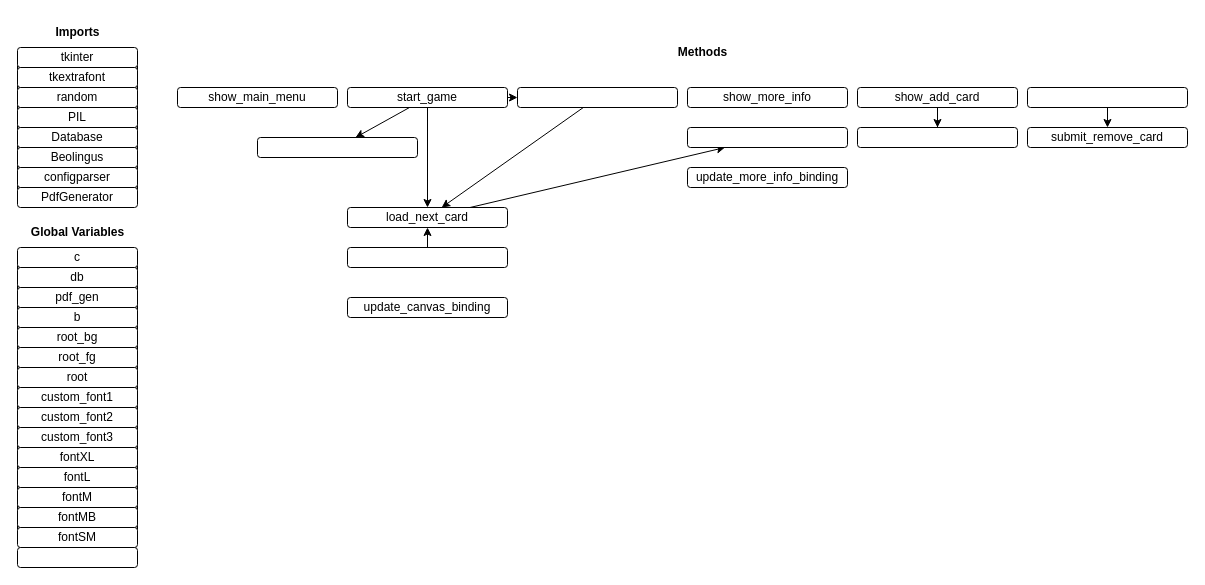
Some shapes in this 1205 by 585 pixel diagram are drawn without their labels. The centre of each missing label's shape, as x and y in pixels:
"card_label_toggle" belongs at pixel 337 147.
"check_answer" belongs at pixel 427 257.
"load_more_info" belongs at pixel 767 137.
"show_remove_card" belongs at pixel 1107 97.
"show_result_page" belongs at pixel 597 97.
"style" belongs at pixel 77 557.
"submit_add_card" belongs at pixel 937 137.
